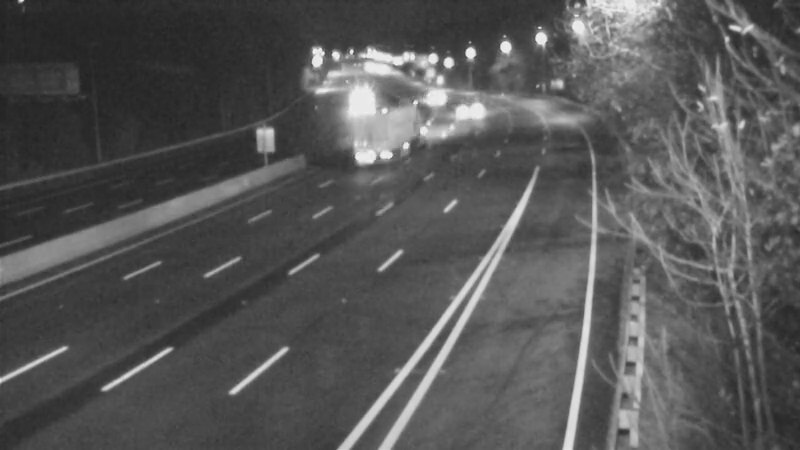vehicle: (408, 75, 458, 125), (441, 85, 491, 135), (363, 98, 413, 148), (336, 77, 386, 127)
